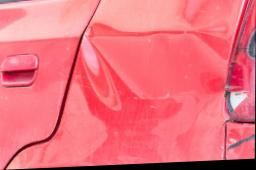Fender: (62, 19, 230, 128)
